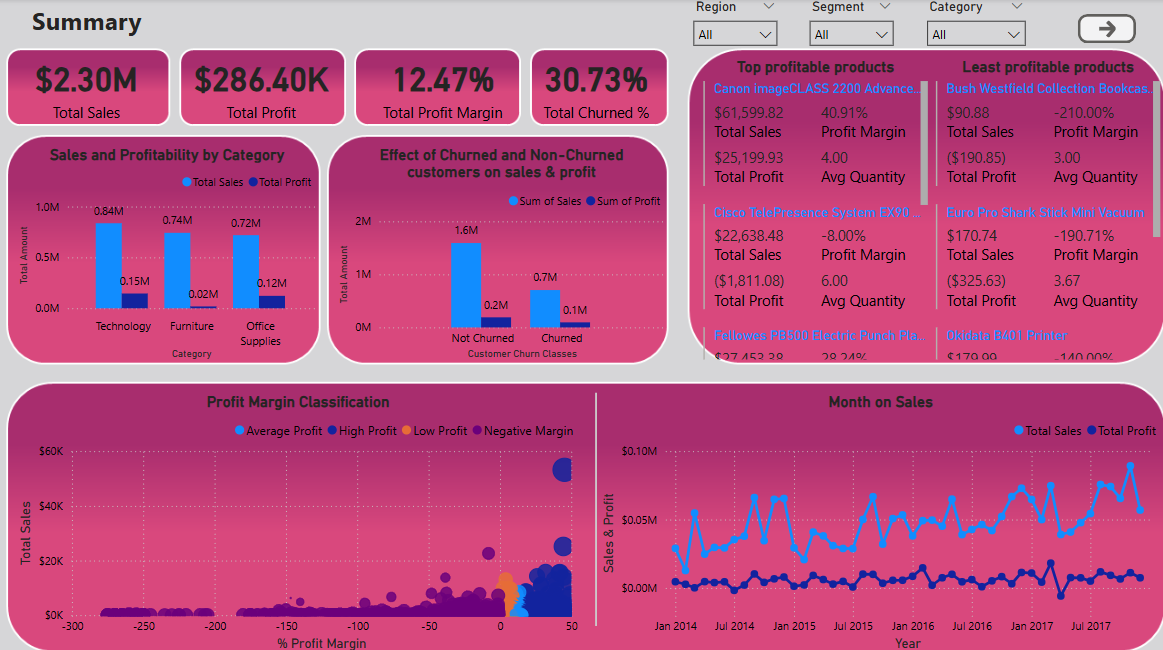

What the dashboard file says about the page in this screenshot:
{"tool":"powerbi","page":{"name":"Summary","canvas":[1280,720],"ordinal":0},"visuals":[{"type":"shape","box":[592,432,128,256],"z":0},{"type":"card","fields":{"Values":["Sum(Superstore cleaned.Sales)"]},"box":[0,48,192,96],"z":1000},{"type":"slicer","fields":{"Values":["Superstore cleaned.Category"]},"box":[1008,0,128,64],"z":2000},{"type":"slicer","fields":{"Values":["Superstore cleaned.Segment"]},"box":[880,0,112,64],"z":3000},{"type":"slicer","fields":{"Values":["Superstore cleaned.Region"]},"box":[752,0,112,64],"z":4000},{"type":"card","fields":{"Values":["Sum(Superstore cleaned.Profit)"]},"box":[192,48,192,96],"z":5000},{"type":"lineChart","title":"Month on Sales ","fields":{"Y":["Sum(Superstore cleaned.Sales)","Sum(Superstore cleaned.Profit)"],"Category":["Superstore cleaned.Order Date.Variation.Date Hierarchy.Year","Superstore cleaned.Order Date.Variation.Date Hierarchy.Quarter","Superstore cleaned.Order Date.Variation.Date Hierarchy.Month"]},"box":[656,432,624,288],"z":6000},{"type":"card","fields":{"Values":["Superstore cleaned.Total Profit Margin"]},"box":[400,48,176,96],"z":7000},{"type":"multiRowCard","title":"Least profitable  products","fields":{"Values":["Superstore cleaned.Product Name","Sum(Superstore cleaned.Sales)","Superstore cleaned.Total Profit Margin","Sum(Superstore cleaned.Profit)","Avg(Superstore cleaned.Quantity)"]},"box":[1024,64,256,336],"z":8000},{"type":"multiRowCard","title":"Top profitable products","fields":{"Values":["Superstore cleaned.Product Name","Sum(Superstore cleaned.Sales)","Superstore cleaned.Total Profit Margin","Sum(Superstore cleaned.Profit)","Avg(Superstore cleaned.Quantity)"]},"box":[768,64,256,336],"z":9000},{"type":"scatterChart","title":"Profit Margin Classification","fields":{"Category":["Superstore cleaned.Product Name"],"Series":["Superstore cleaned.Product Avg Profit Margin"],"Y":["Sum(Superstore cleaned.Sales)"],"X":["Superstore cleaned.% Profit Margin"],"Size":["Sum(Superstore cleaned.Profit)"]},"box":[16,432,624,288],"z":10000},{"type":"card","fields":{"Values":["Superstore cleaned.Total Churned %"]},"box":[560,48,192,96],"z":11000},{"type":"textbox","box":[16,0,160,64],"z":12000},{"type":"actionButton","box":[1184,16,64,32],"z":13000},{"type":"clusteredColumnChart","title":"Effect of Churned and Non-Churned customers on sales & profit","fields":{"Y":["Sum(Superstore cleaned.Sales)","Sum(Superstore cleaned.Profit)"],"Category":["Superstore cleaned.Customer Churn"]},"box":[368,160,368,240],"z":14000},{"type":"clusteredColumnChart","title":"Sales and Profitability by Category","fields":{"Category":["Superstore cleaned.Category"],"Y":["Sum(Superstore cleaned.Sales)","Sum(Superstore cleaned.Profit)"]},"box":[16,160,336,240],"z":15000}]}

Visuals, with their boxes in screenshot pixels (x1, y1, x2, y2), scaled from the page's 1280x720 canvas onto the 1163x650 screenshot:
shape: bbox=[538, 390, 654, 621]
card - Sum(Superstore cleaned.Sales): bbox=[0, 43, 174, 130]
slicer - Superstore cleaned.Category: bbox=[916, 0, 1032, 58]
slicer - Superstore cleaned.Segment: bbox=[800, 0, 901, 58]
slicer - Superstore cleaned.Region: bbox=[683, 0, 785, 58]
card - Sum(Superstore cleaned.Profit): bbox=[174, 43, 349, 130]
"Month on Sales " lineChart: bbox=[596, 390, 1162, 649]
card - Superstore cleaned.Total Profit Margin: bbox=[363, 43, 523, 130]
"Least profitable  products" multiRowCard: bbox=[930, 58, 1162, 361]
"Top profitable products" multiRowCard: bbox=[698, 58, 930, 361]
"Profit Margin Classification" scatterChart: bbox=[15, 390, 582, 649]
card - Superstore cleaned.Total Churned %: bbox=[509, 43, 683, 130]
textbox: bbox=[15, 0, 160, 58]
actionButton: bbox=[1076, 14, 1134, 43]
"Effect of Churned and Non-Churned customers on sales & profit" clusteredColumnChart: bbox=[334, 144, 669, 361]
"Sales and Profitability by Category" clusteredColumnChart: bbox=[15, 144, 320, 361]
